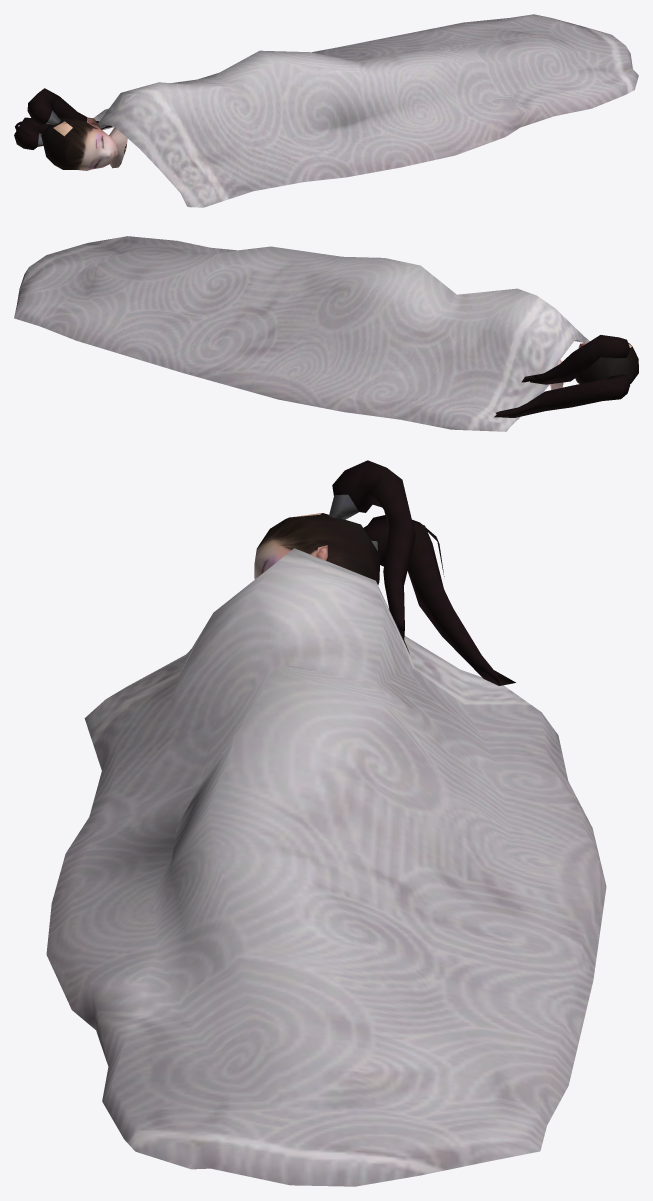
Rendered from chuang01_luoli_55_47_0741out.fbx.
3 renders of one model, top to bottom at view 1: azimuth 30°, elevation 25°; view 2: azimuth 150°, elevation 25°; view 3: azimuth 270°, elevation 25°, orthographic. The views are drawn at different scales.
Parts seen in each view (by area): view 1: chuang01_juese; view 2: chuang01_juese; view 3: chuang01_juese.
Boxes of the visible parts, x1,y1,x2,y2 form: chuang01_juese: [14, 14, 638, 207]; chuang01_juese: [14, 236, 638, 431]; chuang01_juese: [46, 460, 606, 1186].
Bounding box in the file's own units: 2.3 × 0.316 × 0.9473.
